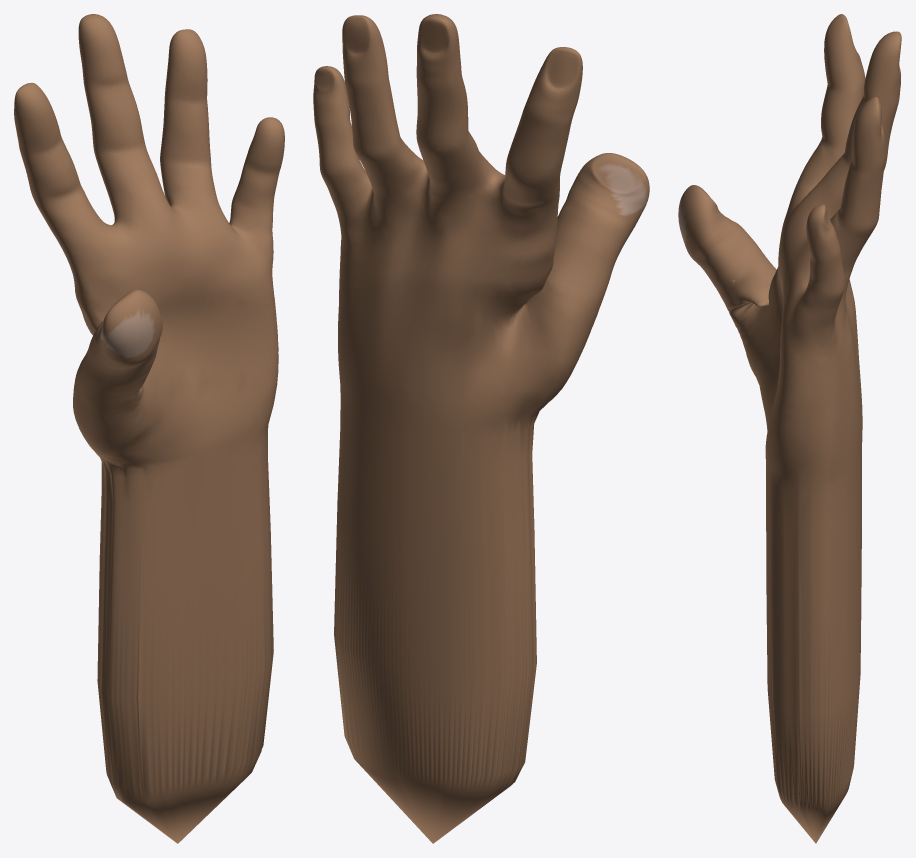
File: right-hand.glb
The picture shows the model from 3 angles, left to right: view 1: azimuth 30°, elevation 25°; view 2: azimuth 150°, elevation 25°; view 3: azimuth 270°, elevation 25°; orthographic projection. The views are drawn at different scales.
Parts seen in each view (by area): view 1: right hand; view 2: right hand; view 3: right hand.
Boxes of the visible parts, x1,y1,x2,y2 form: right hand: (14, 14, 284, 843); right hand: (313, 14, 649, 843); right hand: (678, 14, 901, 843).
Size of the model in its own units: 0.1155 by 0.3464 by 0.0888.
